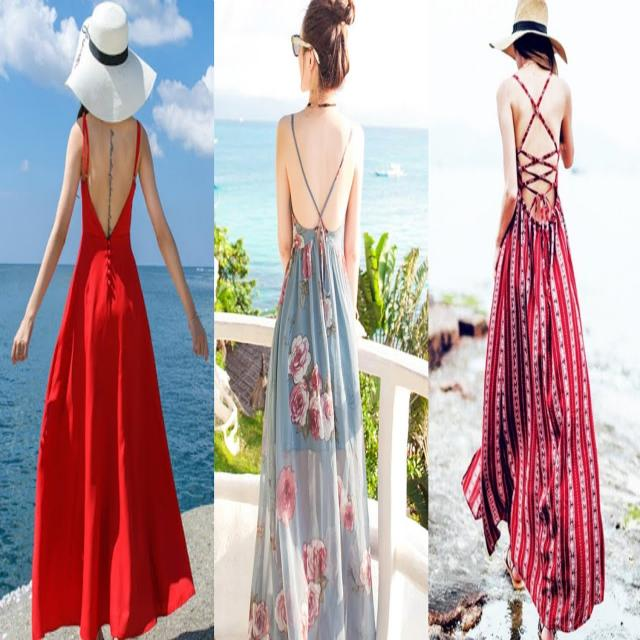clothes: (32, 109, 192, 640), (478, 76, 608, 625), (253, 101, 377, 640)
